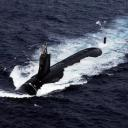submarine: (10, 35, 109, 101)
